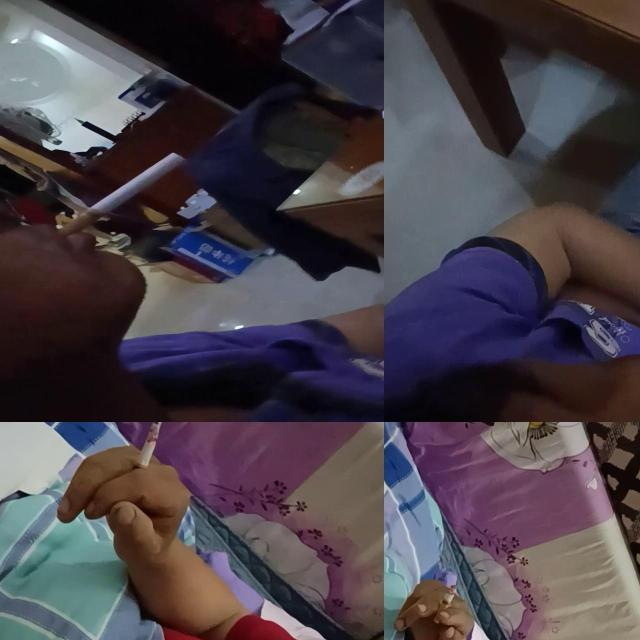smoking: (57, 151, 189, 238), (130, 422, 164, 484), (433, 586, 456, 624)
